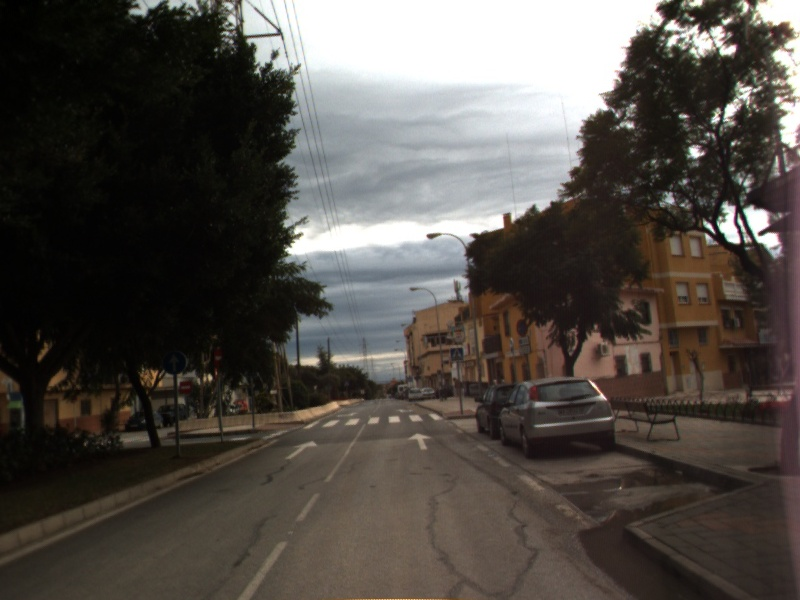STRAIGHT: (282, 438, 320, 461), (406, 431, 434, 451)
